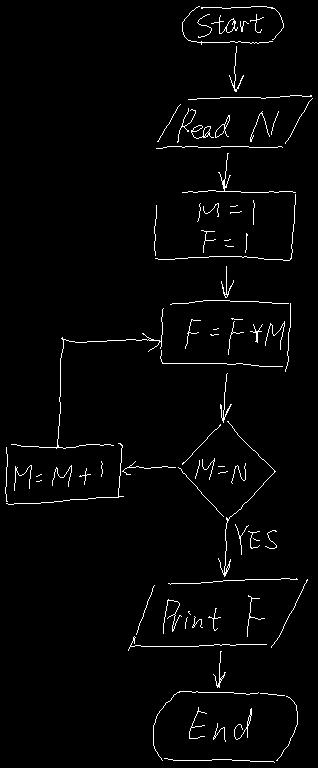arrow: (56, 333, 161, 448), (218, 517, 230, 576), (122, 461, 175, 474), (229, 46, 243, 91), (220, 373, 231, 422), (218, 153, 230, 190), (213, 651, 225, 687), (221, 266, 233, 297)
data: (128, 578, 307, 650), (156, 95, 312, 148)
decision: (178, 421, 275, 520)
process: (154, 190, 295, 260), (160, 300, 290, 371), (5, 443, 123, 504)
terminator: (153, 691, 297, 762), (182, 6, 283, 44)
text: (163, 595, 264, 636), (185, 318, 284, 354), (177, 108, 278, 142), (197, 200, 254, 252), (14, 461, 102, 490), (189, 707, 251, 741), (197, 14, 263, 37), (195, 458, 245, 483), (235, 524, 276, 554)
